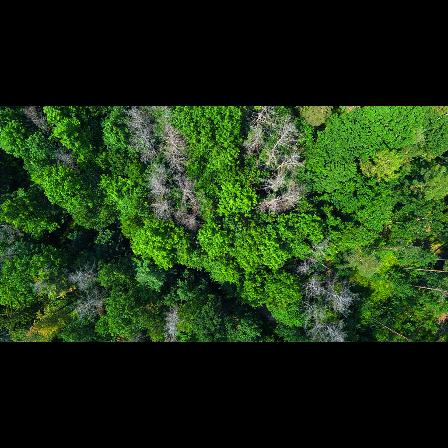Dead: (257, 186, 308, 214), (241, 108, 270, 153), (264, 121, 291, 168), (305, 312, 346, 342), (73, 288, 118, 315), (309, 281, 354, 308), (22, 106, 54, 136), (269, 151, 303, 175), (135, 129, 158, 163), (66, 268, 103, 289), (163, 306, 185, 341), (159, 126, 185, 154), (1, 220, 30, 244), (152, 195, 175, 225), (178, 182, 200, 213), (54, 147, 77, 173), (126, 108, 151, 131), (308, 239, 333, 259), (166, 155, 189, 175), (150, 162, 170, 180), (147, 178, 170, 193), (291, 262, 313, 277), (182, 214, 199, 232), (33, 277, 50, 292)
